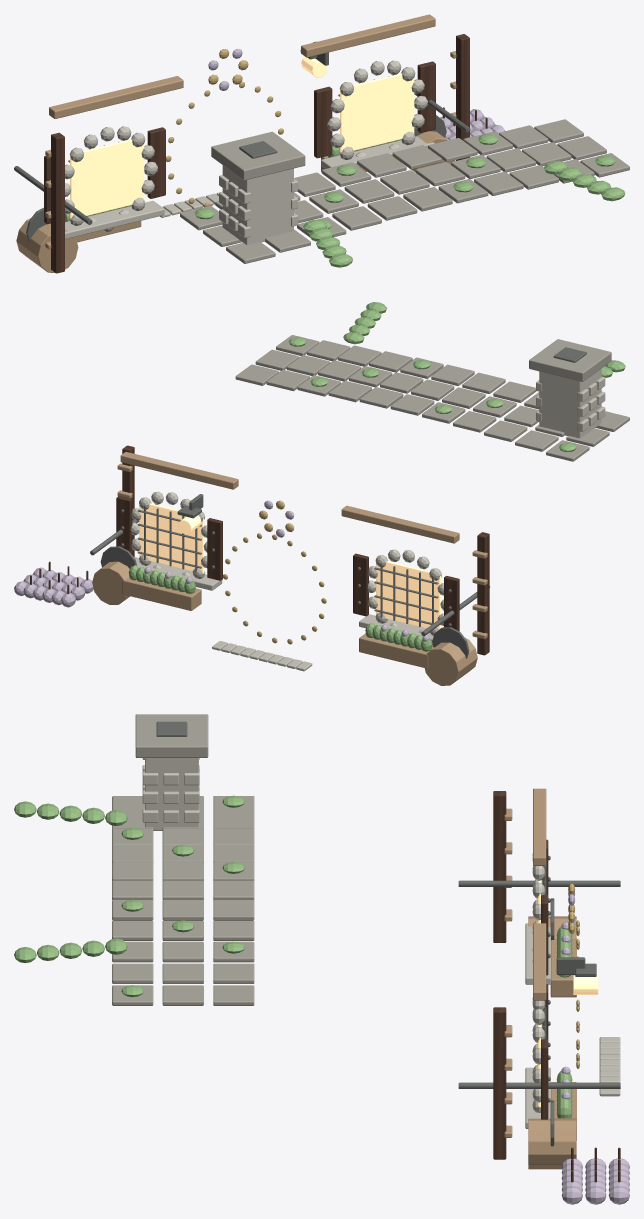
File: shire_northern_cottage_craftwork.glb
3 renders of one model, top to bottom at view 1: azimuth 30°, elevation 25°; view 2: azimuth 150°, elevation 25°; view 3: azimuth 270°, elevation 25°, orthographic. The views are drawn at different scales.
Visible parts, largest first — view 1: Art_roof_slate, Art_rounded_fieldstone, Art_amber_glass, Art_oak_grain_original, Art_weathered_wood, Art_ivy_and_herbs, Art_forged_iron, Art_household_motif_color, Art_warm_brass; view 2: Art_roof_slate, Art_weathered_wood, Art_rounded_fieldstone, Art_amber_glass, Art_oak_grain_original, Art_forged_iron, Art_ivy_and_herbs, Art_household_motif_color, Art_warm_brass; view 3: Art_roof_slate, Art_rounded_fieldstone, Art_weathered_wood, Art_oak_grain_original, Art_ivy_and_herbs, Art_forged_iron, Art_household_motif_color.
Part boxes in pixels (x1,y1,x2,y2): Art_roof_slate: (180, 119, 629, 263); Art_rounded_fieldstone: (65, 60, 434, 244); Art_amber_glass: (70, 56, 414, 218); Art_oak_grain_original: (44, 34, 487, 273); Art_weathered_wood: (16, 14, 456, 272); Art_ivy_and_herbs: (66, 134, 625, 267); Art_forged_iron: (14, 41, 470, 241); Art_household_motif_color: (208, 48, 504, 140); Art_warm_brass: (166, 49, 283, 206); Art_roof_slate: (235, 335, 629, 461); Art_weathered_wood: (92, 452, 487, 685); Art_rounded_fieldstone: (131, 368, 605, 671); Art_amber_glass: (139, 503, 440, 629); Art_oak_grain_original: (30, 445, 489, 655); Art_forged_iron: (90, 347, 586, 658); Art_ivy_and_herbs: (128, 302, 625, 651); Art_household_motif_color: (14, 500, 429, 641); Art_warm_brass: (223, 500, 326, 644); Art_roof_slate: (112, 714, 254, 1005); Art_rounded_fieldstone: (142, 758, 620, 1128); Art_weathered_wood: (504, 788, 576, 1169); Art_oak_grain_original: (493, 791, 620, 1182); Art_ivy_and_herbs: (14, 795, 572, 1118); Art_forged_iron: (156, 721, 620, 1146); Art_household_motif_color: (561, 892, 629, 1204).
Size of the model in its own units: 8.66 by 4.02 by 8.66.
9 materials, 1 textured.
